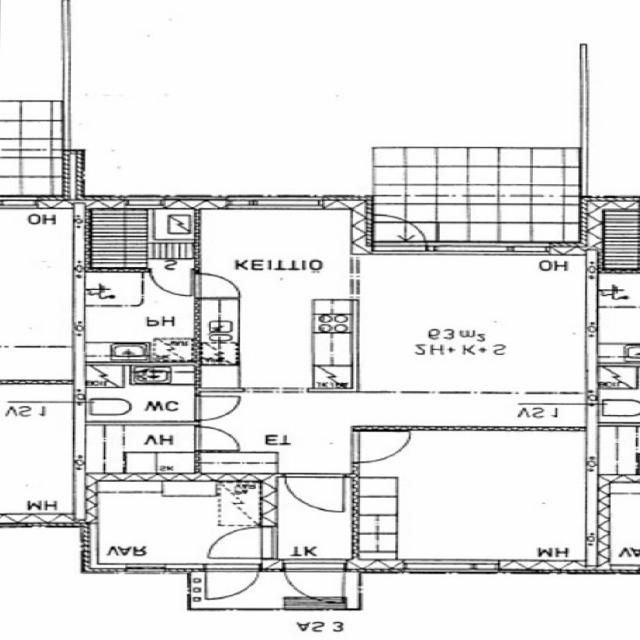door: (285, 558, 345, 608), (375, 210, 427, 254), (209, 526, 278, 558), (286, 473, 344, 511), (206, 564, 259, 603), (353, 431, 410, 462), (150, 268, 193, 298), (194, 273, 240, 298), (194, 396, 240, 420), (195, 427, 240, 450)
